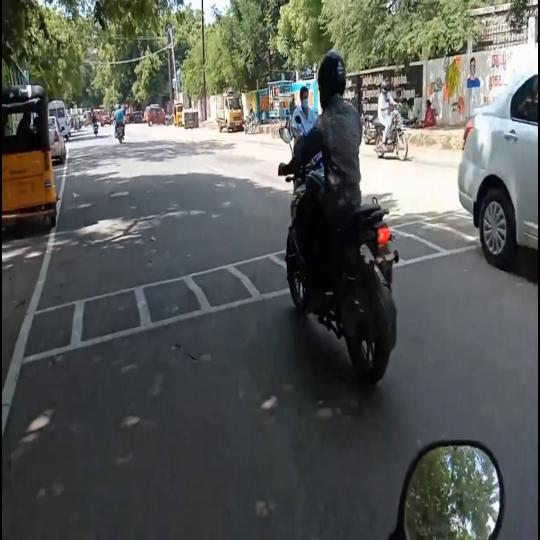Speed Bump: (2, 249, 286, 357), (399, 214, 473, 261)
